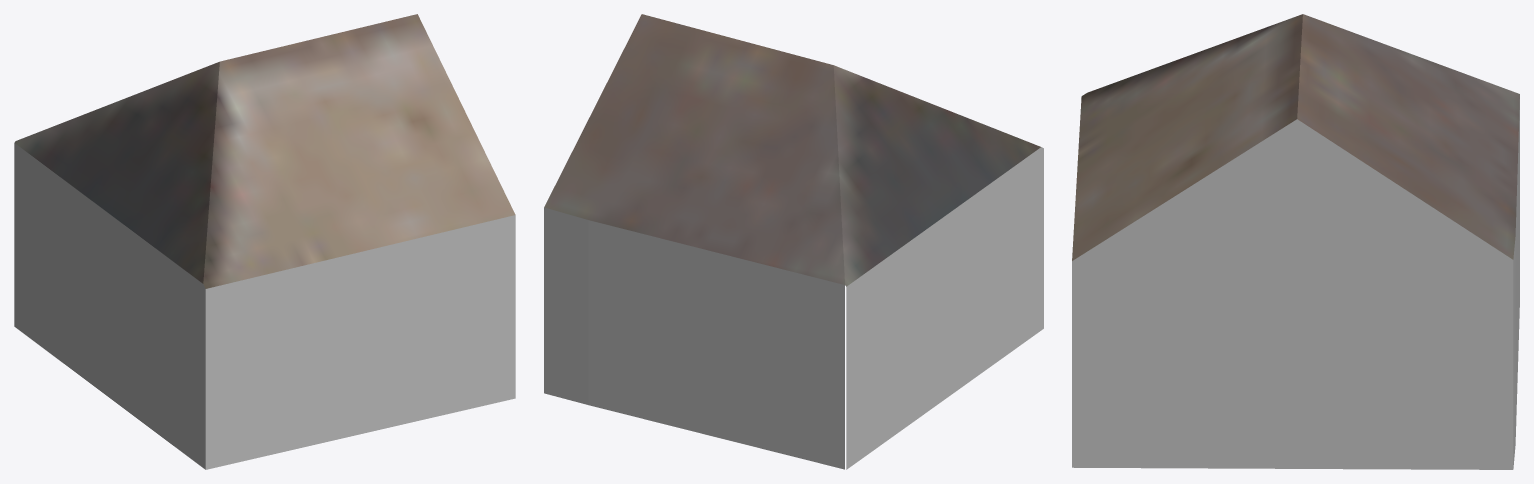
Rendered from DEBW_0010007Txek.gltf.
The picture shows the model from 3 angles, left to right: view 1: azimuth 30°, elevation 25°; view 2: azimuth 150°, elevation 25°; view 3: azimuth 270°, elevation 25°; orthographic projection. The views are drawn at different scales.
Parts seen in each view (by area): view 1: Z_UP; view 2: Z_UP; view 3: Z_UP.
Part boxes in pixels (bbox=[...]): Z_UP: bbox=[14, 14, 515, 469]; Z_UP: bbox=[544, 14, 1043, 469]; Z_UP: bbox=[1072, 14, 1519, 469].
Bounding box in the file's own units: 5.47 × 5.25 × 6.09.
Materials: 2 (1 with a texture image).
